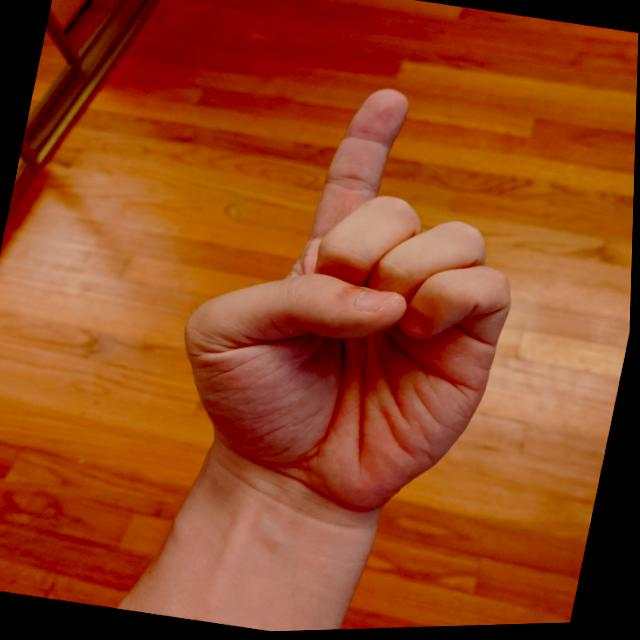D: (147, 54, 560, 547)
